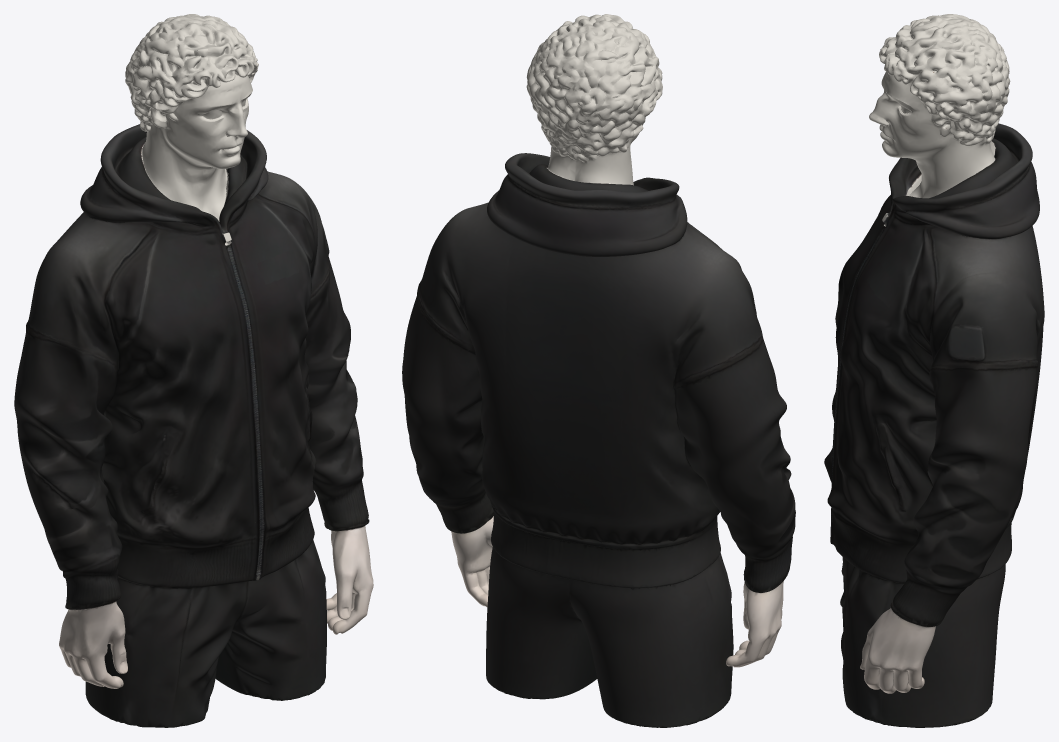
File: hoodie-sculpture-collar.glb
The picture shows the model from 3 angles, left to right: view 1: azimuth 30°, elevation 25°; view 2: azimuth 150°, elevation 25°; view 3: azimuth 270°, elevation 25°; orthographic projection. The views are drawn at different scales.
Visible parts, largest first — view 1: model; view 2: model; view 3: model.
Part boxes in pixels (box(x1,y1,x2,y2)): model: box(14, 14, 373, 727); model: box(402, 14, 795, 727); model: box(824, 14, 1044, 727).
Size of the model in its own units: 1.03 by 1.9 by 0.5779.
Materials: 2 (1 with a texture image).
